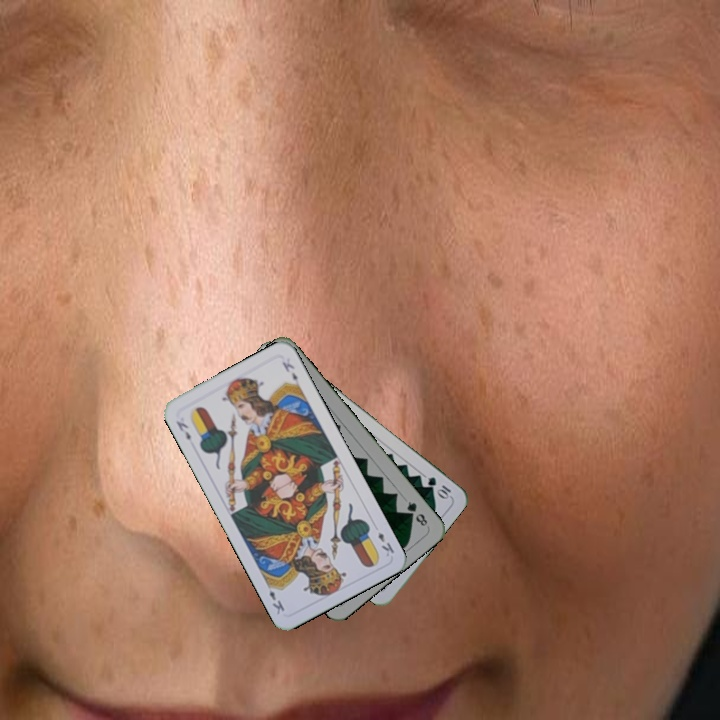EK: (374, 528, 397, 559), (172, 417, 193, 443)
G10: (423, 473, 454, 501)
G8: (402, 497, 430, 529)
